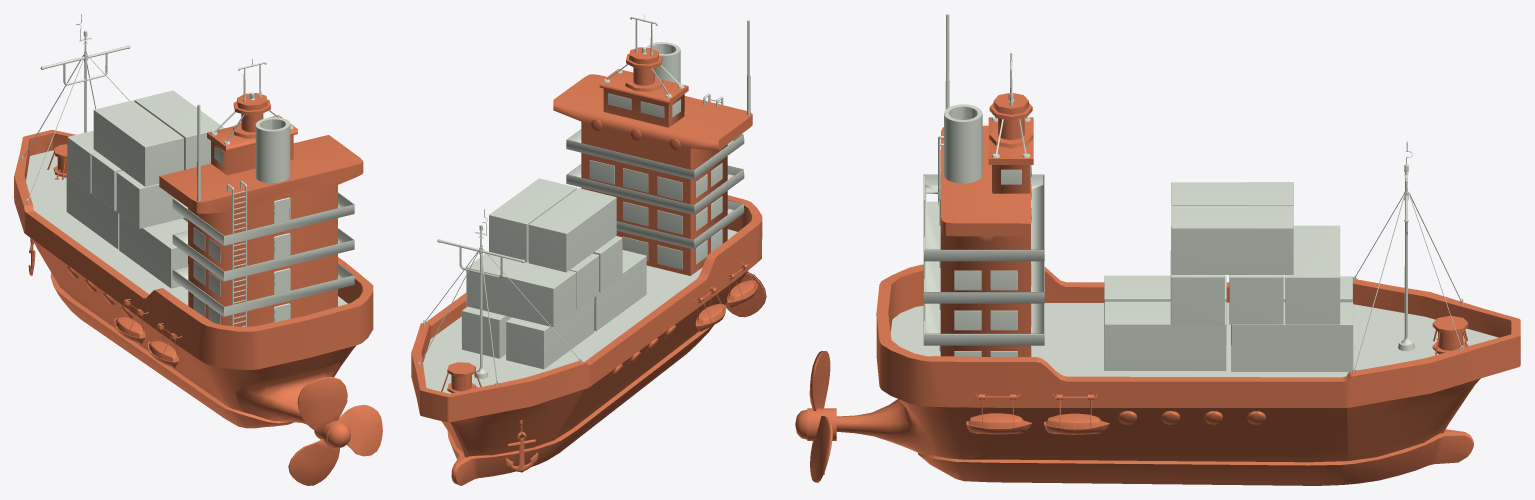
The model's file is ship.fbx.
3 renders of one model, left to right at view 1: azimuth 30°, elevation 25°; view 2: azimuth 150°, elevation 25°; view 3: azimuth 270°, elevation 25°, orthographic. The views are drawn at different scales.
Parts seen in each view (by area): view 1: base, top; view 2: base, top; view 3: base, top.
Part boxes in pixels (bbox=[...]): base: bbox=[14, 93, 382, 485]; top: bbox=[21, 14, 354, 326]; base: bbox=[411, 47, 766, 485]; top: bbox=[418, 14, 750, 393]; base: bbox=[795, 93, 1520, 485]; top: bbox=[890, 14, 1498, 377].
Bounding box in the file's own units: 31 × 51.2 × 78.21.
